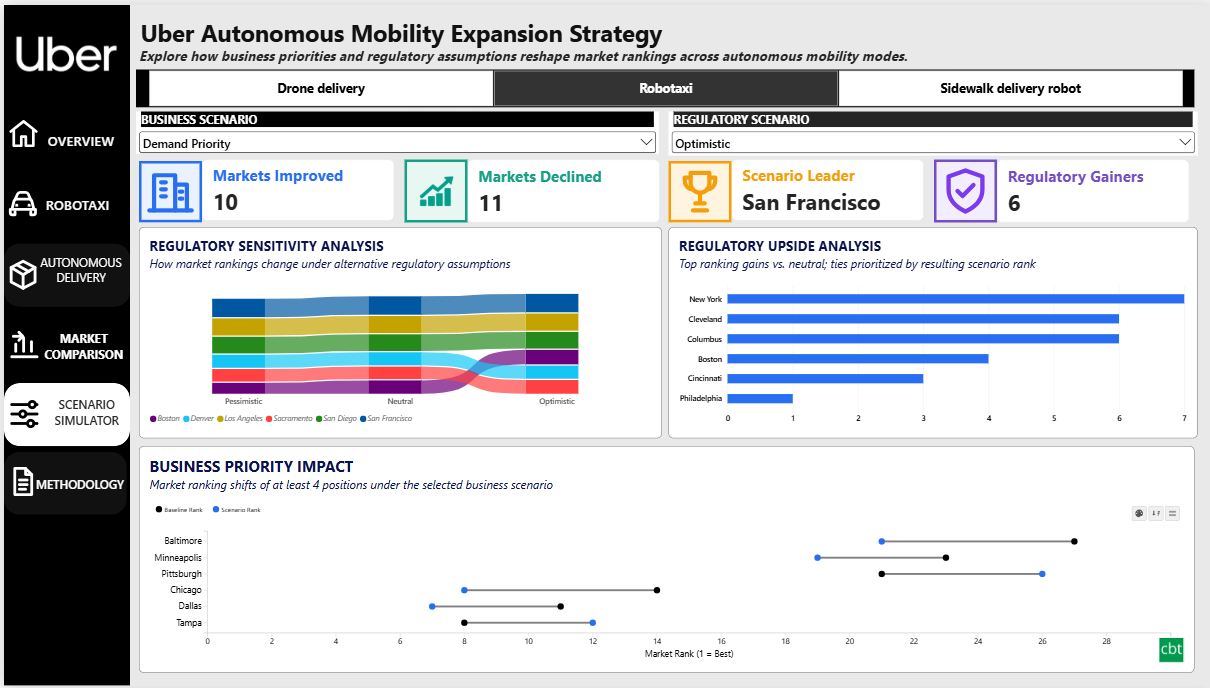

What the dashboard file says about the page in this screenshot:
{"tool":"powerbi","page":{"name":"Scenario Simulator","canvas":[1920,1080],"ordinal":4},"visuals":[{"type":"shape","box":[0,162.5,198.7,100.8],"z":0},{"type":"cardVisual","fields":{"Data":["_Measures.Business Markets Improved"]},"box":[315,245,305,97.6],"z":0,"group":"g3"},{"type":"cardVisual","fields":{"Data":["_Measures.Business Scenario Leader"]},"box":[1155,245,305,97.6],"z":0,"group":"g5"},{"type":"shape","box":[0,272.4,200,97.6],"z":0,"group":"g8"},{"type":"shape","box":[0,377.5,200,100.4],"z":0,"group":"g9"},{"type":"shape","box":[0,490,200,100.4],"z":0,"group":"g10"},{"type":"shape","box":[0,600,200,100.4],"z":0,"group":"g7"},{"type":"shape","box":[0,710,194.8,99.2],"z":0,"group":"g2"},{"type":"shape","box":[0,0,200,1080],"z":1000},{"type":"image","box":[215,247.4,100,97.6],"z":1000,"group":"g3"},{"type":"image","box":[1055,247.4,100,97.6],"z":1000,"group":"g5"},{"type":"textbox","box":[216,0,1704,96],"z":2000},{"type":"textbox","box":[215,47.5,1500,72.5],"z":3000},{"type":"image","box":[0,270,60,87.8],"z":3000,"group":"g8"},{"type":"actionButton","box":[528.9,447.9,200,100],"z":4000},{"type":"image","box":[0,0,200,165.6],"z":5000},{"type":"actionButton","box":[0,160,200,100],"z":6000},{"type":"group","id":"g1","title":"Group 3","box":[0,377.5,200,100.4],"z":7000},{"type":"group","id":"g2","title":"Group 7","box":[0,710,200,99.2],"z":8000},{"type":"actionButton","box":[417.5,850,198.4,93.5],"z":9000},{"type":"actionButton","box":[0,272.5,200,100],"z":10000},{"type":"actionButton","box":[0,490,198.4,102],"z":11000},{"type":"actionButton","box":[0,492.5,200,100],"z":12000},{"type":"textbox","box":[57.5,200,130.4,37.8],"z":13000},{"type":"actionButton","box":[0,710,200,100],"z":14000},{"type":"image","box":[2.5,165,57.5,80],"z":15000},{"type":"slicer","title":"Select Autonomous Mobility Mode","fields":{"Values":["PBI_DIM_MODE.MODE_NAME"]},"box":[210,102.5,1680,60],"z":16000},{"type":"group","id":"g3","title":"Group 1","box":[215,245,405,100],"z":17000},{"type":"cardVisual","fields":{"Data":["_Measures.Regulatory Markets Improved"]},"box":[1575,245,305,100],"z":17000,"group":"g11"},{"type":"group","id":"g4","title":"Group 8","box":[635,245,405,100],"z":18000},{"type":"image","box":[1475,245,100,100],"z":18000,"group":"g11"},{"type":"group","id":"g5","title":"Group 9","box":[1055,245,405,100],"z":19000},{"type":"group","id":"g6","title":"Group 4","box":[0,270,200,100],"z":20000},{"type":"textbox","box":[38.8,302.9,157.5,43.9],"z":20000,"group":"g8"},{"type":"textbox","box":[52.8,395,139.8,55.2],"z":20000,"group":"g9"},{"type":"textbox","box":[57.5,515,138.9,55.2],"z":20000,"group":"g10"},{"type":"textbox","box":[62.5,622.5,138.9,55.2],"z":20000,"group":"g7"},{"type":"textbox","box":[40,747.5,160,35],"z":20000,"group":"g2"},{"type":"actionButton","box":[0,377.5,200,100],"z":21000},{"type":"image","box":[0,389.8,60.4,75.7],"z":21000,"group":"g9"},{"type":"ribbonChart","title":"REGULATORY SENSITIVITY ANALYSIS","fields":{"Category":["PBI_DIM_REGULATORY_SCENARIO.REGULATORY_SCENARIO_NAME"],"Series":["PBI_DIM_MARKET.MARKET_SHORT_NAME"],"Y":["Max(PBI_FCT_REGULATORY_UNCERTAINTY.SCENARIO_SCORE)"]},"box":[215,352.5,830,335],"z":22000},{"type":"slicer","fields":{"Values":["PBI_DIM_REGULATORY_SCENARIO.REGULATORY_SCENARIO_NAME"]},"box":[1055,170,840,70],"z":23000},{"type":"image","box":[0,719.1,58.8,74.8],"z":23001,"group":"g2"},{"type":"clusteredBarChart","title":"REGULATORY UPSIDE ANALYSIS","fields":{"Category":["PBI_DIM_MARKET.MARKET_SHORT_NAME"],"Y":["_Measures.Regulatory Rank Change"]},"box":[1055,352.5,840,335],"z":24000},{"type":"group","id":"g7","title":"Group 5","box":[0,600,201.4,100.4],"z":25000},{"type":"cardVisual","fields":{"Data":["_Measures.Business Markets Declined"]},"box":[735,245,305,100],"z":25005,"group":"g4"},{"type":"image","box":[635,245,100,100],"z":25011,"group":"g4"},{"type":"group","id":"g8","title":"Group 10","box":[0,270,200,100],"z":25020,"group":"g6"},{"type":"group","id":"g9","title":"Group 11","box":[0,377.5,200,100.4],"z":25020,"group":"g1"},{"type":"group","id":"g10","title":"Group 2","box":[0,490,200,100],"z":26000},{"type":"slicer","fields":{"Values":["PBI_DIM_SCENARIO.SCENARIO_NAME"]},"box":[210,170,830,67.5],"z":27000},{"type":"image","box":[2.5,505,60,75],"z":27004,"group":"g10"},{"type":"image","box":[2.5,612.5,60,75],"z":27006,"group":"g7"},{"type":"DumbbellChart1716000000001","title":"BUSINESS PRIORITY IMPACT","fields":{"category":["PBI_DIM_MARKET.MARKET_SHORT_NAME"],"measure1":["Min(PBI_FCT_BUSINESS_SCENARIO.BASELINE_RANK)"],"measure2":["Min(PBI_FCT_BUSINESS_SCENARIO.SCENARIO_RANK)"],"tooltips":["Min(PBI_FCT_BUSINESS_SCENARIO.RANK_CHANGE_VS_BASELINE)"]},"box":[215,700,1675,360],"z":28000},{"type":"group","id":"g11","title":"Group 6","box":[1475,245,405,100],"z":29000},{"type":"actionButton","box":[0,277.1,192.9,88.1],"z":29001,"group":"g8"}]}

Visuals, with their boxes in screenshot pixels (x1, y1, x2, y2), scaled from the page's 1920x1080 canvas onto the 1210x688 screenshot:
shape: (left=0, top=104, right=125, bottom=168)
cardVisual - _Measures.Business Markets Improved: (left=199, top=156, right=391, bottom=218)
cardVisual - _Measures.Business Scenario Leader: (left=728, top=156, right=920, bottom=218)
shape: (left=0, top=174, right=126, bottom=236)
shape: (left=0, top=240, right=126, bottom=304)
shape: (left=0, top=312, right=126, bottom=376)
shape: (left=0, top=382, right=126, bottom=446)
shape: (left=0, top=452, right=123, bottom=515)
shape: (left=0, top=0, right=126, bottom=687)
image: (left=135, top=158, right=199, bottom=220)
image: (left=665, top=158, right=728, bottom=220)
textbox: (left=136, top=0, right=1209, bottom=61)
textbox: (left=135, top=30, right=1081, bottom=76)
image: (left=0, top=172, right=38, bottom=228)
actionButton: (left=333, top=285, right=459, bottom=349)
image: (left=0, top=0, right=126, bottom=105)
actionButton: (left=0, top=102, right=126, bottom=166)
"Group 3" group: (left=0, top=240, right=126, bottom=304)
"Group 7" group: (left=0, top=452, right=126, bottom=515)
actionButton: (left=263, top=541, right=388, bottom=601)
actionButton: (left=0, top=174, right=126, bottom=237)
actionButton: (left=0, top=312, right=125, bottom=377)
actionButton: (left=0, top=314, right=126, bottom=377)
textbox: (left=36, top=127, right=118, bottom=151)
actionButton: (left=0, top=452, right=126, bottom=516)
image: (left=2, top=105, right=38, bottom=156)
"Select Autonomous Mobility Mode" slicer: (left=132, top=65, right=1191, bottom=104)
"Group 1" group: (left=135, top=156, right=391, bottom=220)
cardVisual - _Measures.Regulatory Markets Improved: (left=993, top=156, right=1185, bottom=220)
"Group 8" group: (left=400, top=156, right=655, bottom=220)
image: (left=930, top=156, right=993, bottom=220)
"Group 9" group: (left=665, top=156, right=920, bottom=220)
"Group 4" group: (left=0, top=172, right=126, bottom=236)
textbox: (left=24, top=193, right=124, bottom=221)
textbox: (left=33, top=252, right=121, bottom=287)
textbox: (left=36, top=328, right=124, bottom=363)
textbox: (left=39, top=397, right=127, bottom=432)
textbox: (left=25, top=476, right=126, bottom=498)
actionButton: (left=0, top=240, right=126, bottom=304)
image: (left=0, top=248, right=38, bottom=297)
"REGULATORY SENSITIVITY ANALYSIS" ribbonChart: (left=135, top=225, right=659, bottom=438)
slicer - PBI_DIM_REGULATORY_SCENARIO.REGULATORY_SCENARIO_NAME: (left=665, top=108, right=1194, bottom=153)
image: (left=0, top=458, right=37, bottom=506)
"REGULATORY UPSIDE ANALYSIS" clusteredBarChart: (left=665, top=225, right=1194, bottom=438)
"Group 5" group: (left=0, top=382, right=127, bottom=446)
cardVisual - _Measures.Business Markets Declined: (left=463, top=156, right=655, bottom=220)
image: (left=400, top=156, right=463, bottom=220)
"Group 10" group: (left=0, top=172, right=126, bottom=236)
"Group 11" group: (left=0, top=240, right=126, bottom=304)
"Group 2" group: (left=0, top=312, right=126, bottom=376)
slicer - PBI_DIM_SCENARIO.SCENARIO_NAME: (left=132, top=108, right=655, bottom=151)
image: (left=2, top=322, right=39, bottom=369)
image: (left=2, top=390, right=39, bottom=438)
"BUSINESS PRIORITY IMPACT" DumbbellChart1716000000001: (left=135, top=446, right=1191, bottom=675)
"Group 6" group: (left=930, top=156, right=1185, bottom=220)
actionButton: (left=0, top=177, right=122, bottom=233)
